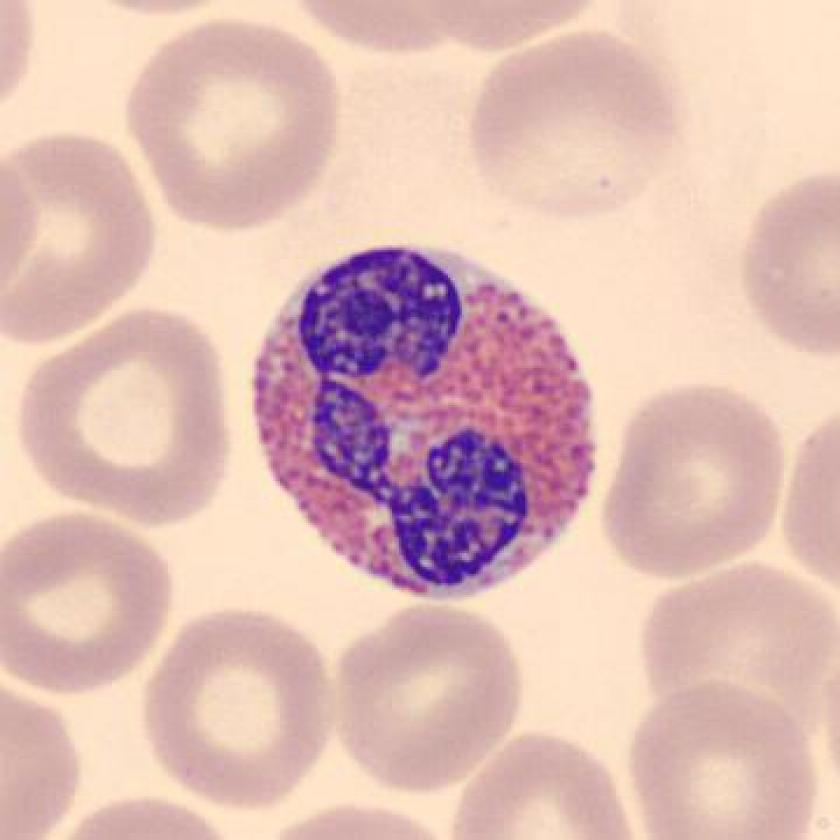eosinophil: (237, 223, 617, 617)
